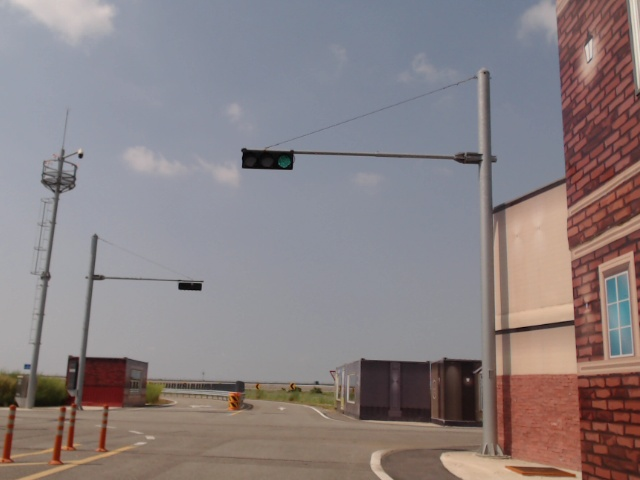green_3: (241, 149, 294, 171)
